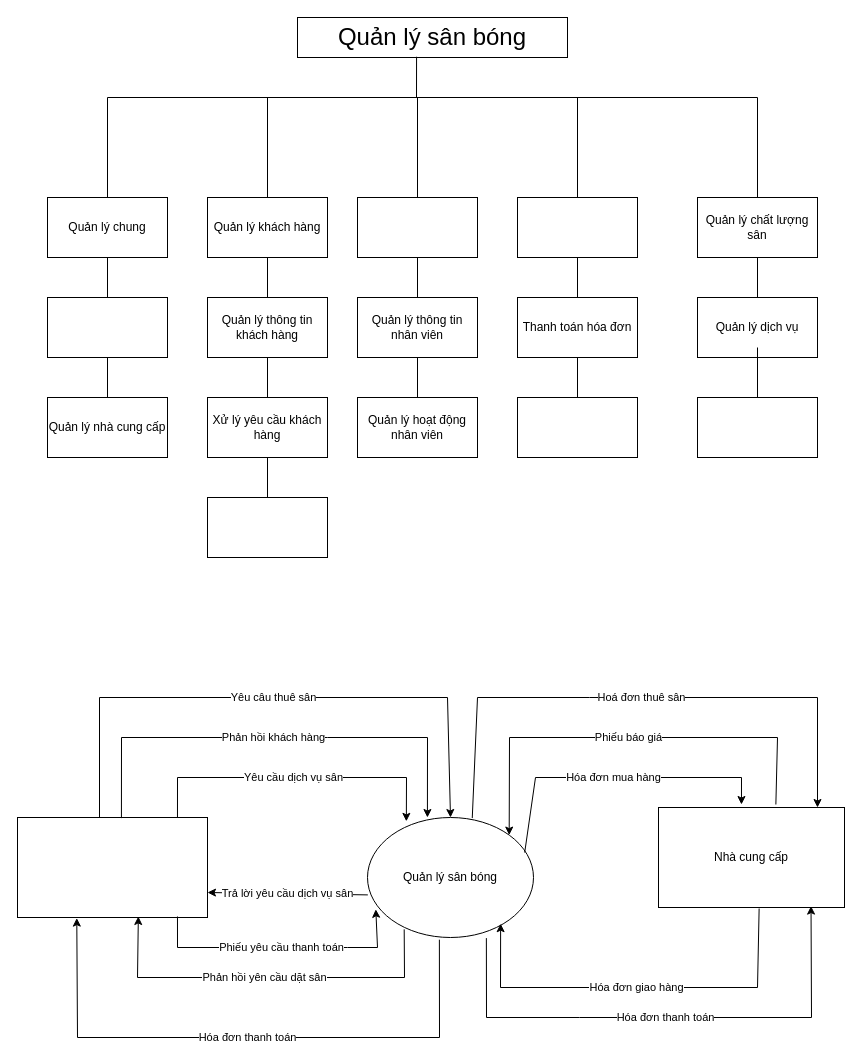
Image size: 862x1063. Some labels were removed from this diagram. The centre of each missing label's shape, as x and y in pixels:
Khách hàng: (112,867)
Quản lý chi tiêu: (577,427)
Quản lý cơ sở: (757,427)
Quản lý nhân viên: (417,227)
Quản lý phản hồi khách hàng: (267,527)
Quản lý tài chính: (577,227)
Quản lý đặt sân: (107,327)
